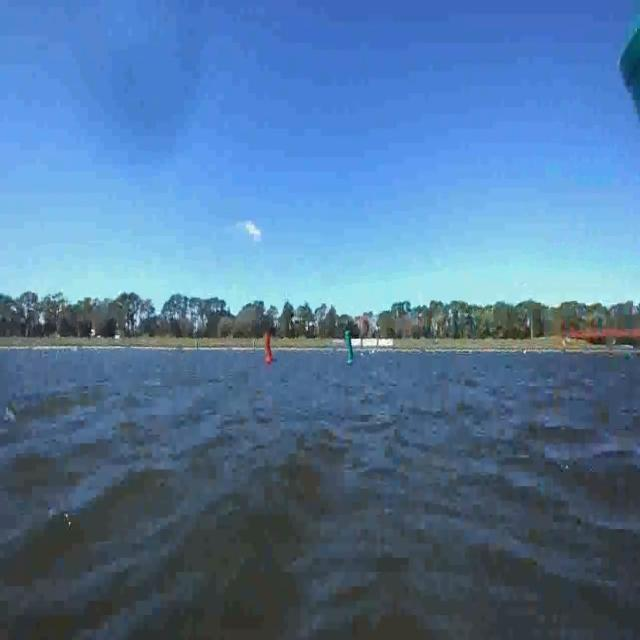green-column-buoy: (346, 330, 356, 363)
red-column-buoy: (265, 334, 275, 364)
